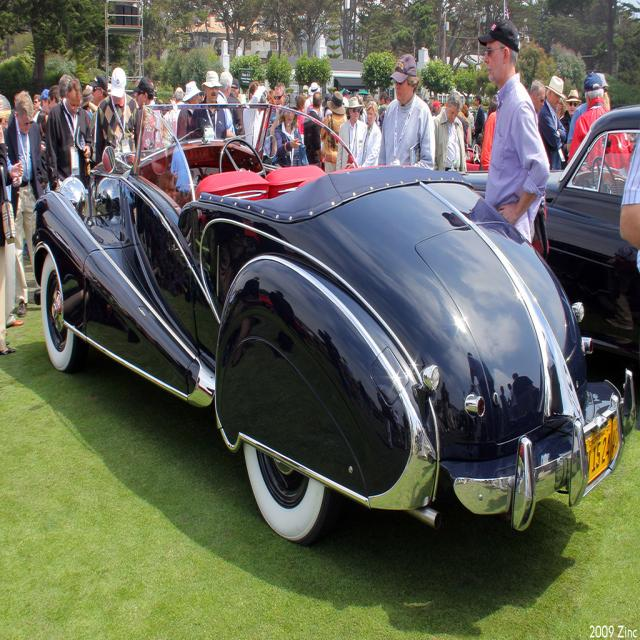car: (27, 95, 635, 553)
